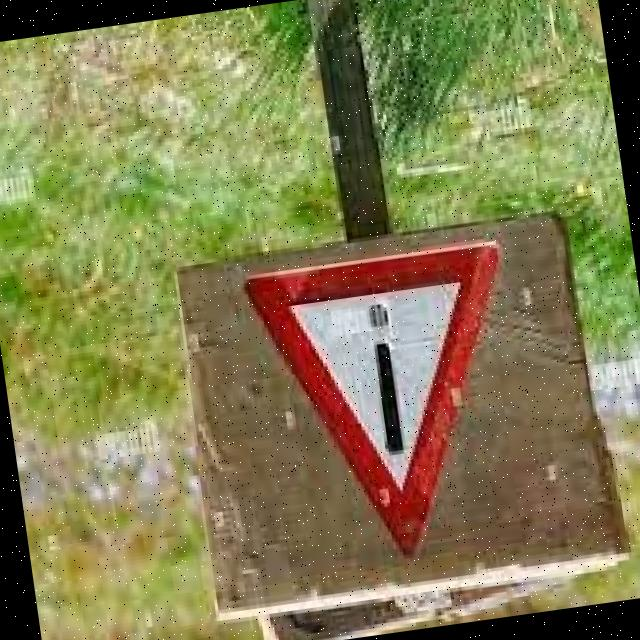warning: (232, 228, 542, 584)
